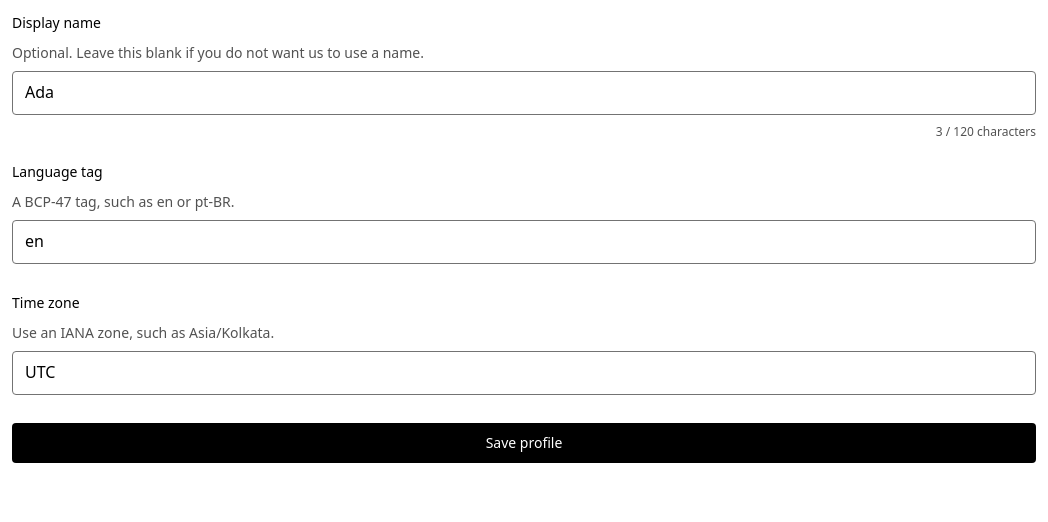
Test: ProfileForm › keeps the edit available after an unsuccessful save
What coordinates should you click on to do the following:
click the button "Save profile"
I would click on:
 (524, 443)
Its box is x1=12 y1=423 x2=1036 y2=463.
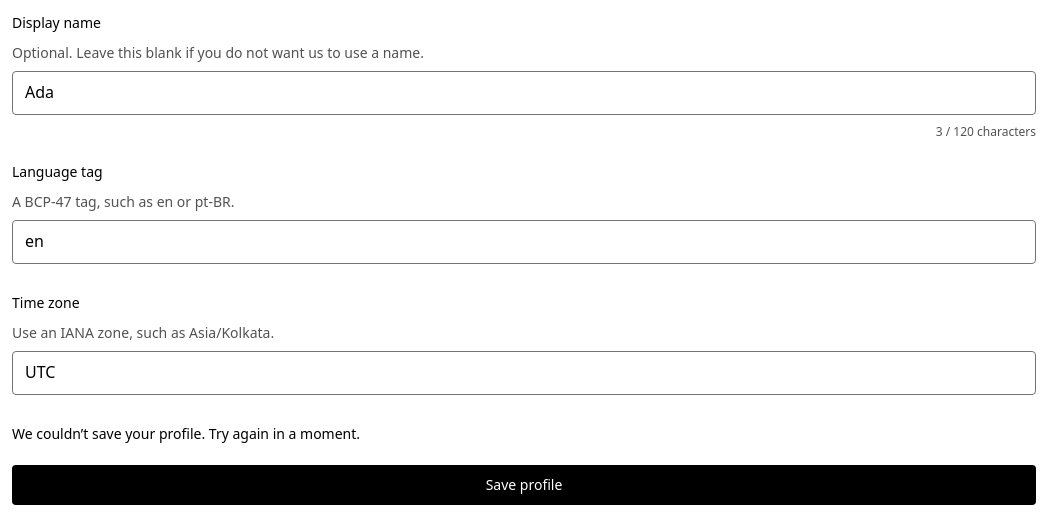
Expected: the message reads "We couldn’t save your profile. Try again in a moment.", x1=12 y1=424 x2=360 y2=443
